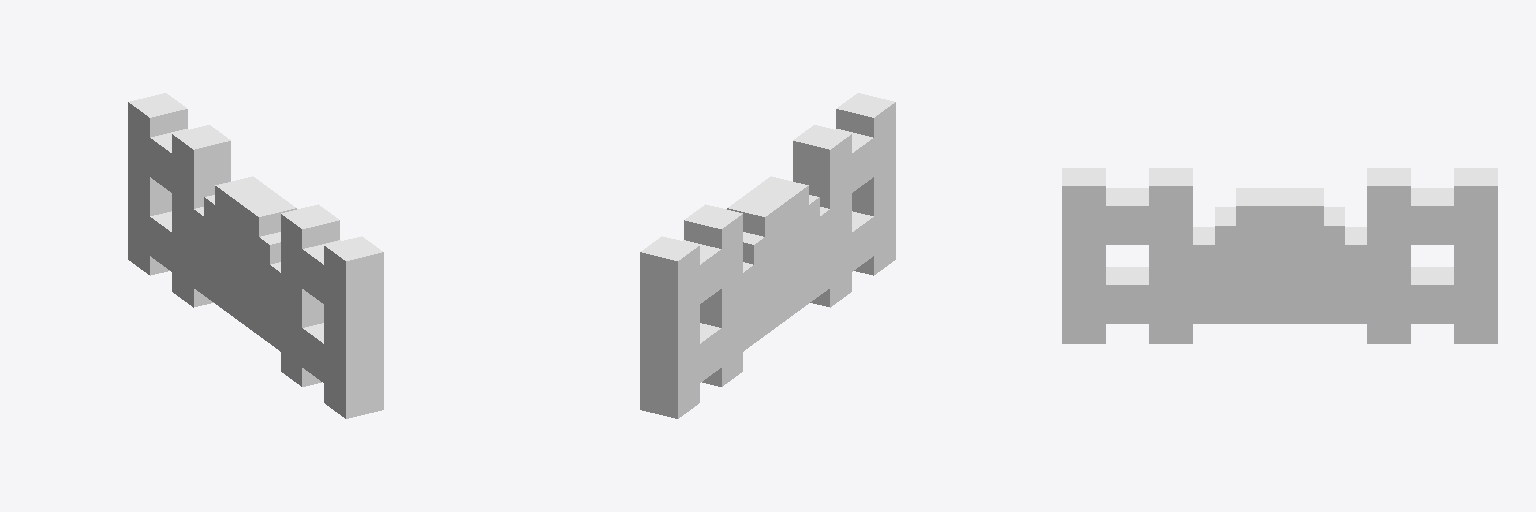
Rendered from wall_with_door.obj.
The picture shows the model from 3 angles: view 1: azimuth 30°, elevation 25°; view 2: azimuth 150°, elevation 25°; view 3: azimuth 270°, elevation 25°; orthographic projection.
Visible parts, largest first — view 1: object 1; view 2: object 1; view 3: object 1.
Boxes of the visible parts, box(x1,y1,x2,y2) form: object 1: box(128, 93, 383, 418); object 1: box(640, 93, 895, 418); object 1: box(1062, 168, 1497, 343).
Bounding box in the file's own units: 0.2 × 0.8 × 2.